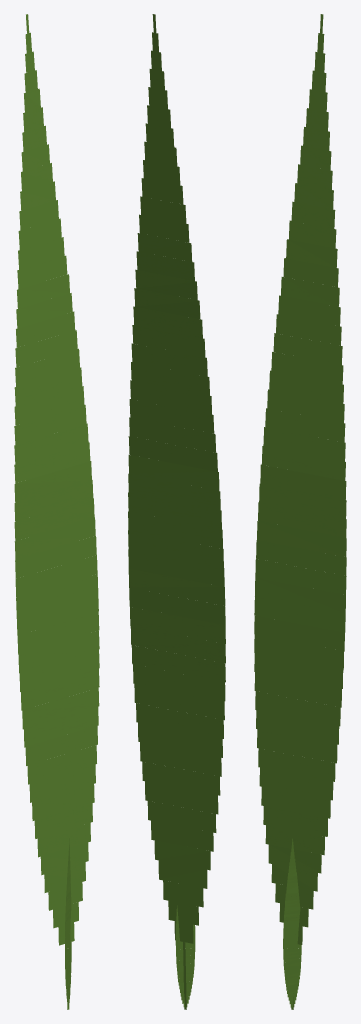
File: maize_004_day_025.dae
The picture shows the model from 3 angles, left to right: view 1: azimuth 30°, elevation 25°; view 2: azimuth 150°, elevation 25°; view 3: azimuth 330°, elevation 25°; orthographic projection. The views are drawn at different scales.
Visible parts, largest first — view 1: node; view 2: node; view 3: node.
Part boxes in pixels (box(x1,y1,x2,y2)): node: box(14, 14, 99, 1009); node: box(128, 14, 225, 1009); node: box(254, 14, 346, 1009).
Size of the model in its own units: 0.0137 by 0.1467 by 0.0106.
Materials: 1 (1 with a texture image).
